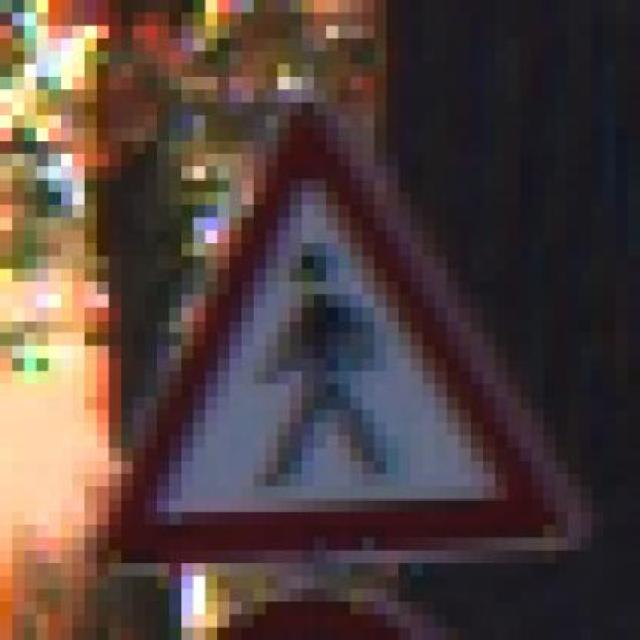Pedestrian Crossing: (96, 102, 604, 602)
